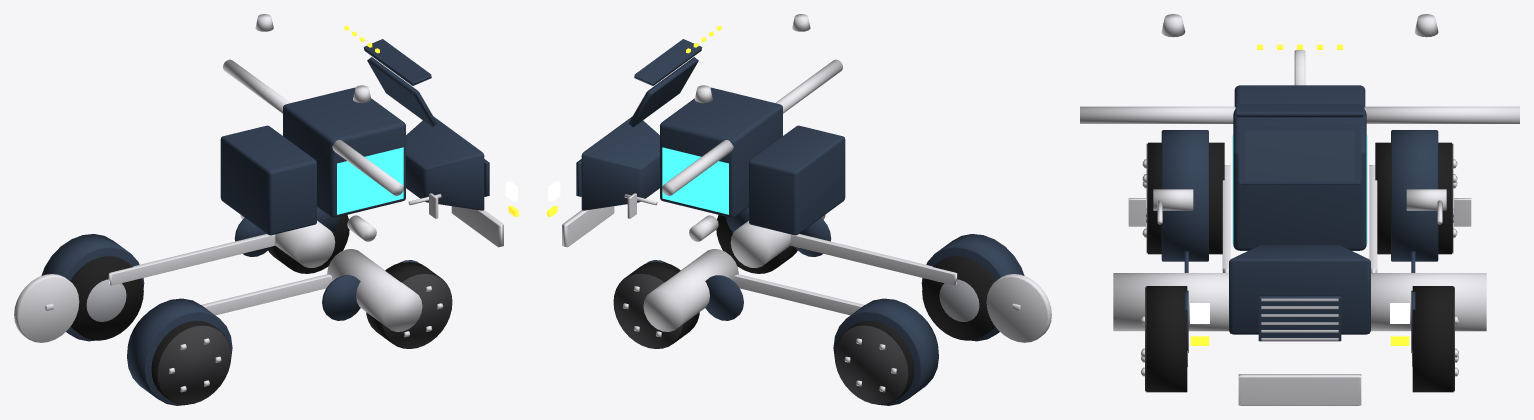
The model's file is tractor.glb.
3 renders of one model, left to right at view 1: azimuth 30°, elevation 25°; view 2: azimuth 150°, elevation 25°; view 3: azimuth 270°, elevation 25°, orthographic. The views are drawn at different scales.
Parts seen in each view (by area): view 1: Tractor_Sleeper, Tractor_Cab, Tractor_Hood, Tractor_Wheel_RL_Out_Side, Tractor_FuelTank_L, Tractor_Fender_L, Tractor_FifthWheel, Tractor_Wheel_RR_In, Tractor_DoorSeam_L, Tractor_Wheel_FL_Side, Tractor_Rail_R, Tractor_Fender_R (+14 smaller); view 2: Tractor_Sleeper, Tractor_Cab, Tractor_Hood, Tractor_Wheel_RR_Out_Side, Tractor_FuelTank_R, Tractor_Fender_R, Tractor_FifthWheel, Tractor_Wheel_RL_In, Tractor_DoorSeam_R, Tractor_Wheel_FR_Side, Tractor_Rail_L, Tractor_Fender_L (+14 smaller); view 3: Tractor_Cab, Tractor_Hood, Tractor_WindshieldFrame, Tractor_Fender_L, Tractor_Fender_R, Tractor_Windshield, Tractor_Wheel_FL, Tractor_Wheel_FR, Tractor_FuelTank_L, Tractor_FuelTank_R, Tractor_Bumper, Tractor_Grille_Frame (+19 smaller).
Boxes of the visible parts, box(x1,y1,x2,y2) form: Tractor_Sleeper: box(220, 125, 316, 235); Tractor_Cab: box(283, 87, 405, 217); Tractor_Hood: box(406, 116, 484, 210); Tractor_Wheel_RL_Out_Side: box(157, 325, 230, 404); Tractor_FuelTank_L: box(327, 249, 422, 331); Tractor_Fender_L: box(127, 298, 232, 405); Tractor_FifthWheel: box(14, 274, 79, 342); Tractor_Wheel_RR_In: box(70, 256, 143, 340); Tractor_DoorSeam_L: box(337, 147, 403, 214); Tractor_Wheel_FL_Side: box(382, 273, 452, 348); Tractor_Rail_R: box(108, 234, 275, 285); Tractor_Fender_R: box(41, 234, 144, 341); Tractor_Sleeper: box(749, 125, 845, 235); Tractor_Cab: box(660, 87, 782, 217); Tractor_Hood: box(581, 116, 659, 210); Tractor_Wheel_RR_Out_Side: box(835, 325, 908, 404); Tractor_FuelTank_R: box(643, 249, 738, 331); Tractor_Fender_R: box(833, 298, 938, 405); Tractor_FifthWheel: box(986, 274, 1051, 342); Tractor_Wheel_RL_In: box(922, 256, 995, 340); Tractor_DoorSeam_R: box(662, 147, 728, 214); Tractor_Wheel_FR_Side: box(613, 273, 683, 348); Tractor_Rail_L: box(790, 234, 957, 285); Tractor_Fender_L: box(921, 234, 1024, 341); Tractor_Cab: box(1233, 104, 1366, 250); Tractor_Hood: box(1229, 245, 1370, 334); Tractor_WindshieldFrame: box(1238, 123, 1361, 184); Tractor_Fender_L: box(1161, 130, 1208, 261); Tractor_Fender_R: box(1391, 130, 1438, 261); Tractor_Windshield: box(1245, 130, 1354, 180); Tractor_Wheel_FL: box(1146, 286, 1187, 392); Tractor_Wheel_FR: box(1412, 286, 1453, 392); Tractor_FuelTank_L: box(1113, 273, 1228, 331); Tractor_FuelTank_R: box(1371, 273, 1486, 331); Tractor_Bumper: box(1238, 374, 1361, 405); Tractor_Grille_Frame: box(1258, 295, 1341, 341).
Bounding box in the file's own units: 5.23 × 2.93 × 3.3.
